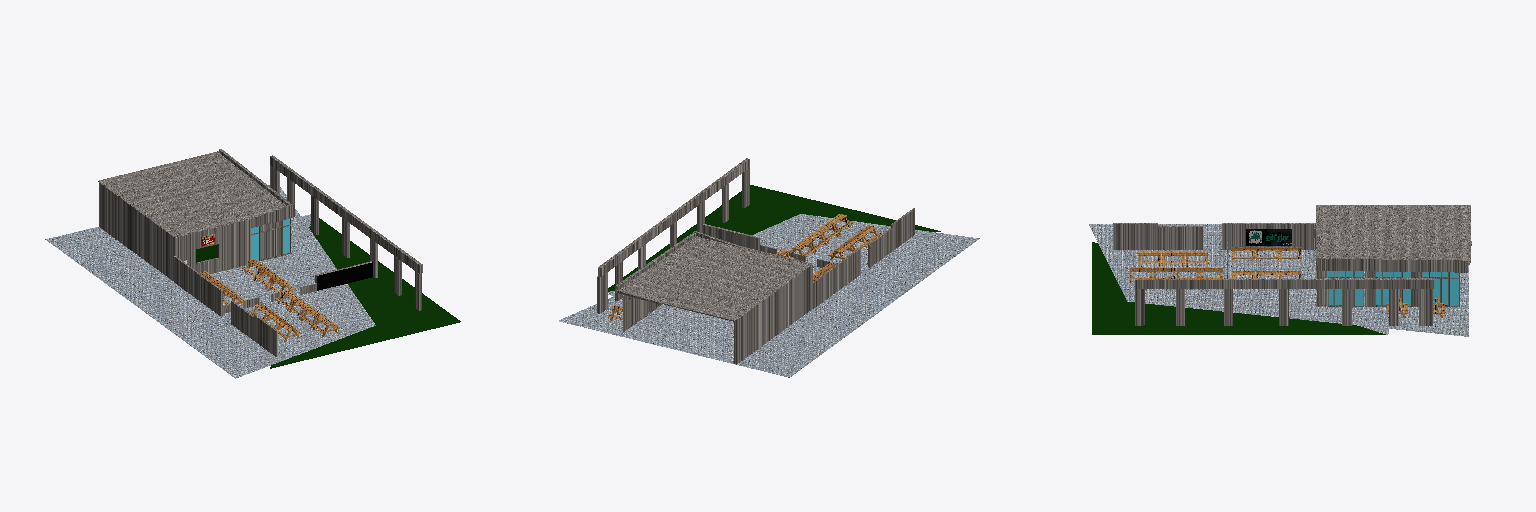
3 renders of one model, left to right at view 1: azimuth 30°, elevation 25°; view 2: azimuth 150°, elevation 25°; view 3: azimuth 270°, elevation 25°, orthographic.
Parts seen in each view (by area): view 1: Object.1; view 2: Object.1; view 3: Object.1.
Part boxes in pixels (x1,y1,x2,y2): Object.1: (45,149,460,378); Object.1: (559,158,979,377); Object.1: (1089,205,1471,336).
Size of the model in its own units: 72.43 by 14.78 by 103.
Materials: 9 (5 with a texture image).